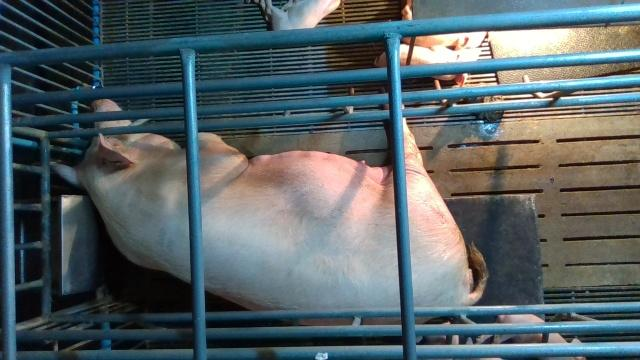piglet: (476, 314, 586, 360), (374, 43, 482, 87), (254, 0, 340, 30)
sow-sleep: (52, 99, 489, 325)
